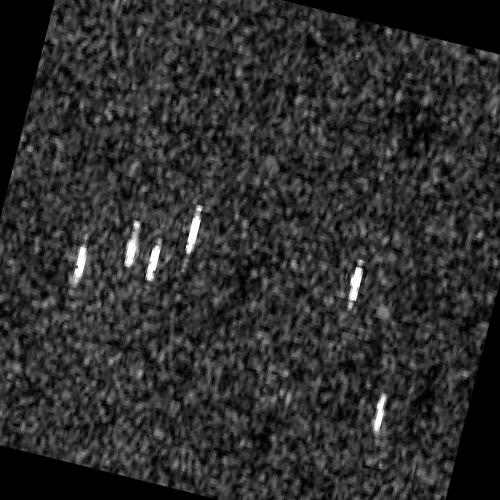ship: (123, 218, 141, 269), (185, 204, 203, 255), (347, 260, 365, 310), (144, 240, 162, 282), (371, 392, 388, 435), (72, 244, 88, 286)
